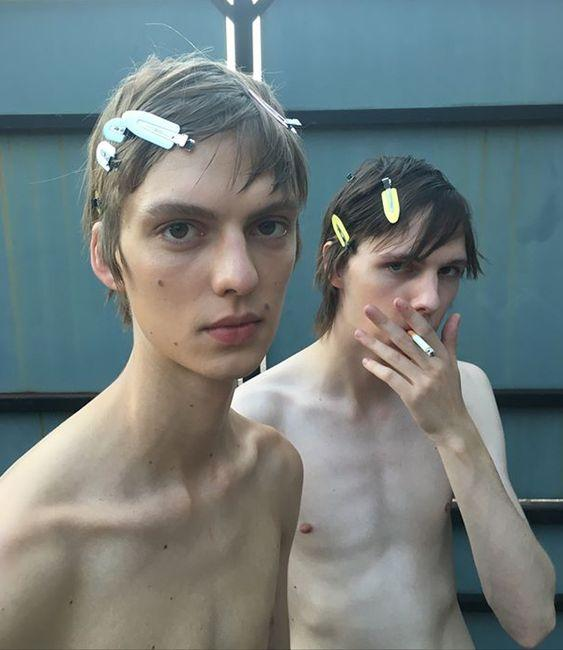cigarette: (405, 329, 436, 358)
